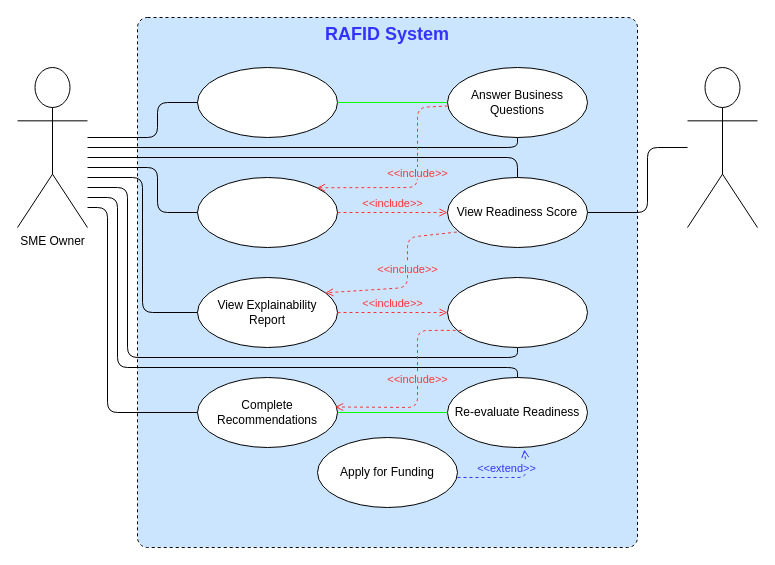
This 775x565 diagram has some shape labels left out. Each missing label, with the box of its shape:
Connect Bank Account: (196, 176, 338, 248)
Credit Officer: (686, 66, 758, 228)
Get personalized Roadmap: (446, 276, 588, 348)
Start Conversation: (196, 66, 338, 138)
